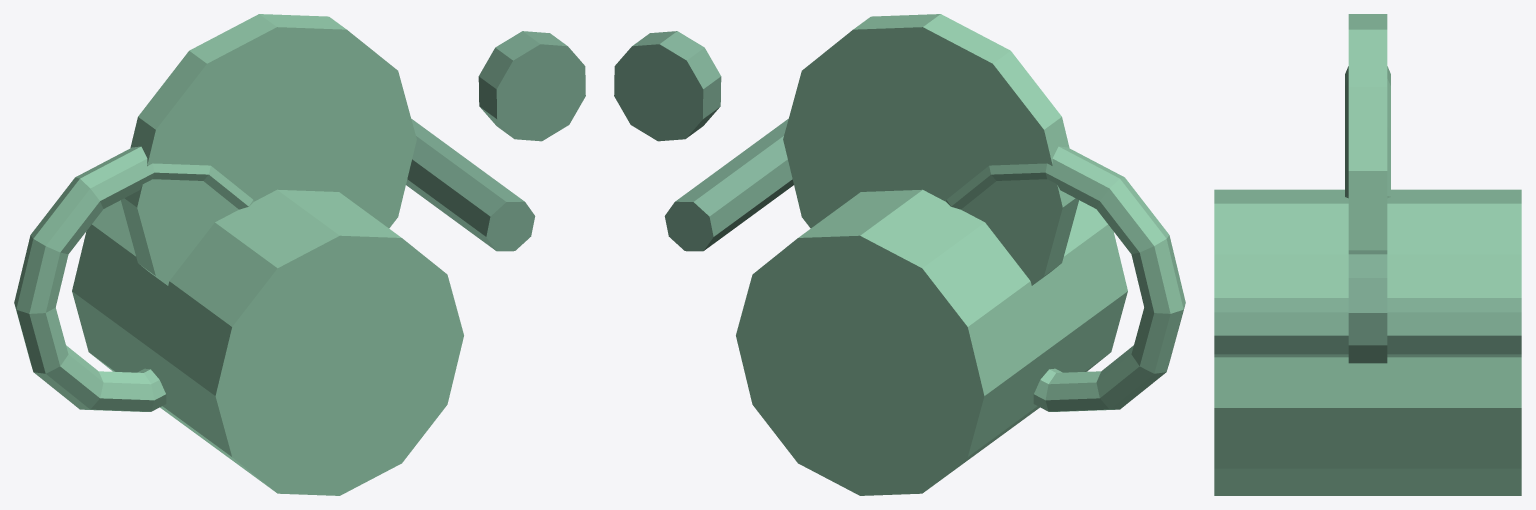
Rendered from regadera.glb.
3 views of the same model, side by side, from view 1: azimuth 30°, elevation 25°; view 2: azimuth 150°, elevation 25°; view 3: azimuth 270°, elevation 25° (orthographic). The views are drawn at different scales.
Parts seen in each view (by area): view 1: can_body, can_spout; view 2: can_body, can_spout; view 3: can_body, can_spout.
Boxes of the visible parts, x1,y1,x2,y2 form: can_body: (14, 14, 463, 495); can_spout: (406, 31, 585, 251); can_body: (736, 14, 1185, 495); can_spout: (614, 31, 793, 251); can_body: (1214, 14, 1521, 495); can_spout: (1214, 250, 1521, 363).
Bounding box in the file's own units: 0.3607 × 0.26 × 0.16.
